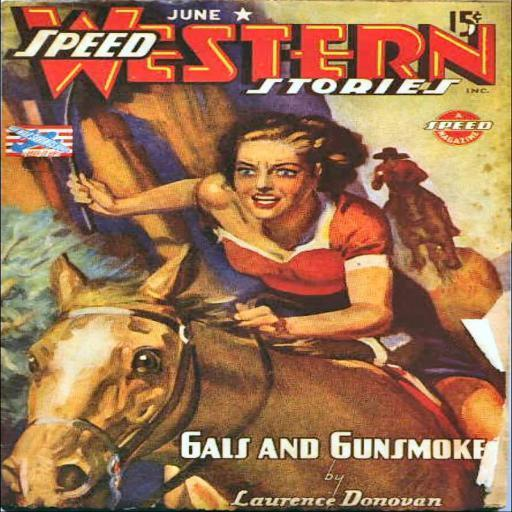horse: (0, 240, 478, 512), (392, 183, 466, 271)
